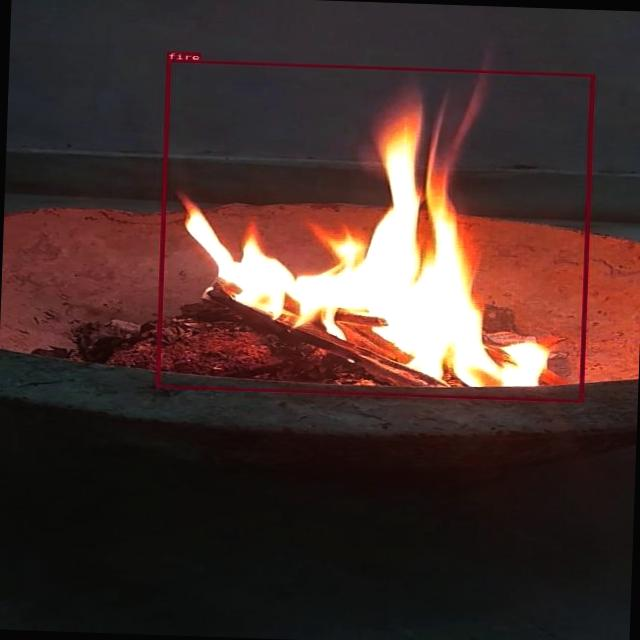fire: (155, 59, 592, 402)
